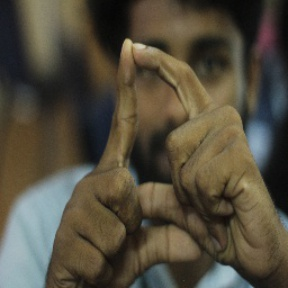D: (86, 39, 237, 215)
